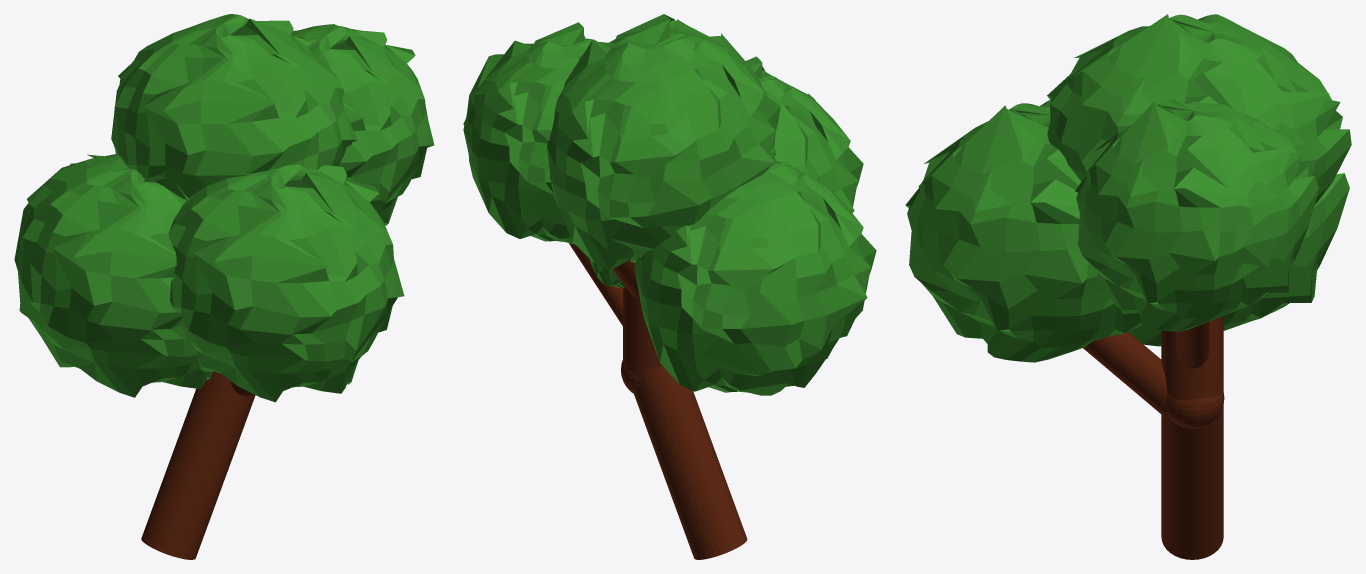
Rendered from tree3.fbx.
3 views of the same model, side by side, from view 1: azimuth 30°, elevation 25°; view 2: azimuth 150°, elevation 25°; view 3: azimuth 270°, elevation 25° (orthographic). The views are drawn at different scales.
Visible parts, largest first — view 1: Leaf 5, Leaf 3, Leaf 2, Leaf 4, Trunk 1; view 2: Leaf 2, Leaf 3, Leaf 4, Trunk 1, Leaf 5, Trunk 2, Branch 1, Branch 2; view 3: Leaf 4, Leaf 5, Leaf 2, Trunk 1, Leaf 3, Branch 3, Trunk 2, Trunk Joint, Branch 1.
Boxes of the visible parts, box(x1,y1,x2,y2) form: Leaf 5: box(168, 164, 404, 402); Leaf 3: box(14, 154, 212, 397); Leaf 2: box(111, 14, 357, 199); Leaf 4: box(291, 24, 434, 225); Trunk 1: box(141, 371, 255, 559); Leaf 2: box(547, 14, 780, 270); Leaf 3: box(634, 147, 876, 395); Leaf 4: box(463, 22, 597, 244); Trunk 1: box(624, 364, 747, 559); Leaf 5: box(746, 56, 863, 212); Trunk 2: box(623, 287, 662, 387); Branch 1: box(569, 243, 622, 325); Branch 2: box(612, 259, 639, 299); Leaf 4: box(1075, 99, 1318, 331); Leaf 5: box(905, 100, 1141, 362); Leaf 2: box(1047, 14, 1351, 205); Trunk 1: box(1161, 381, 1223, 559); Leaf 3: box(1128, 173, 1349, 346); Branch 3: box(1083, 332, 1168, 417); Trunk 2: box(1161, 316, 1223, 413); Trunk Joint: box(1165, 391, 1224, 428); Branch 1: box(1175, 322, 1209, 368).
Bounding box in the file's own units: 582 × 748 × 531.
